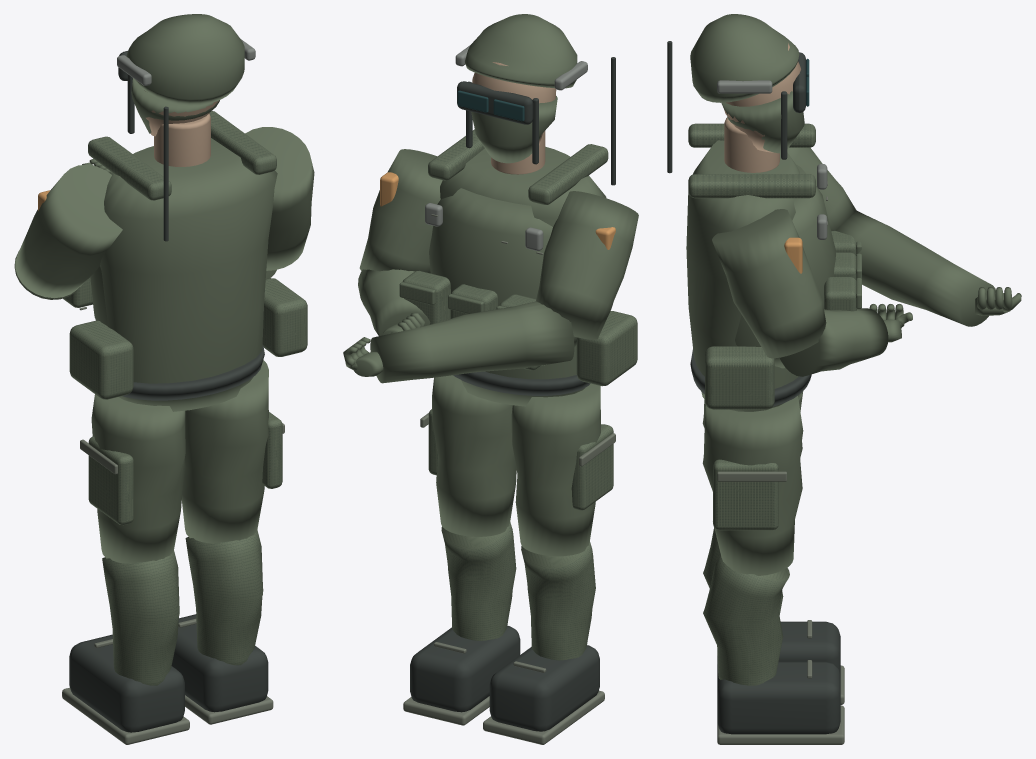
Rendered from soldier_1.glb.
3 renders of one model, left to right at view 1: azimuth 30°, elevation 25°; view 2: azimuth 150°, elevation 25°; view 3: azimuth 270°, elevation 25°, orthographic. The views are drawn at different scales.
Parts seen in each view (by area): view 1: Magazine pouch, Cargo pocket, Shoulder strap, Cargo pocket.001, Tailored shin, Tailored shin.001, Boot, Boot.001, Ballistic goggles, Neck, Sole, Sole.001 (+1 smaller); view 2: Magazine pouch, Shoulder strap, Cargo pocket, Cargo pocket.001, Boot, Tailored shin, Tailored shin.001, Boot.001, Ballistic goggles, Neck, Sole, Buckle (+3 smaller); view 3: Magazine pouch, Shoulder strap, Cargo pocket.001, Tailored shin.001, Boot.001, Neck, Ballistic goggles, Boot, Sole.001, Buckle, Pocket flap.001.
Boxes of the visible parts, left/top/right/bottom form: Magazine pouch: left=14, top=78, right=314, bottom=411; Cargo pocket: left=88, top=394, right=185, bottom=563; Shoulder strap: left=82, top=14, right=276, bottom=325; Cargo pocket.001: left=181, top=360, right=282, bottom=543; Tailored shin: left=102, top=550, right=179, bottom=685; Tailored shin.001: left=185, top=530, right=263, bottom=665; Boot: left=69, top=634, right=184, bottom=732; Boot.001: left=171, top=614, right=268, bottom=712; Ballistic goggles: left=118, top=51, right=264, bottom=400; Neck: left=144, top=90, right=218, bottom=166; Sole: left=62, top=639, right=189, bottom=744; Sole.001: left=178, top=618, right=273, bottom=724; Magazine pouch: left=358, top=96, right=638, bottom=406; Shoulder strap: left=343, top=14, right=608, bottom=376; Cargo pocket: left=511, top=383, right=613, bottom=556; Cargo pocket.001: left=428, top=375, right=516, bottom=536; Boot: left=489, top=645, right=599, bottom=731; Tailored shin: left=521, top=541, right=595, bottom=660; Tailored shin.001: left=441, top=522, right=516, bottom=640; Boot.001: left=410, top=625, right=520, bottom=712; Ballistic goggles: left=453, top=57, right=615, bottom=395; Neck: left=472, top=62, right=556, bottom=174; Sole: left=483, top=661, right=604, bottom=744; Buckle: left=425, top=45, right=587, bottom=250; Magazine pouch: left=686, top=91, right=995, bottom=411; Shoulder strap: left=688, top=14, right=1021, bottom=368; Cargo pocket.001: left=702, top=396, right=803, bottom=575; Tailored shin.001: left=703, top=556, right=789, bottom=685; Boot.001: left=717, top=661, right=840, bottom=734; Neck: left=724, top=43, right=800, bottom=172; Ballistic goggles: left=667, top=41, right=811, bottom=406; Boot: left=717, top=621, right=840, bottom=675; Sole.001: left=717, top=660, right=844, bottom=744; Buckle: left=717, top=80, right=827, bottom=239; Pocket flap.001: left=717, top=471, right=786, bottom=481.
Bounding box in the file's own units: 0.743 × 1.85 × 0.8611.
Materials: 8 (2 with a texture image).
